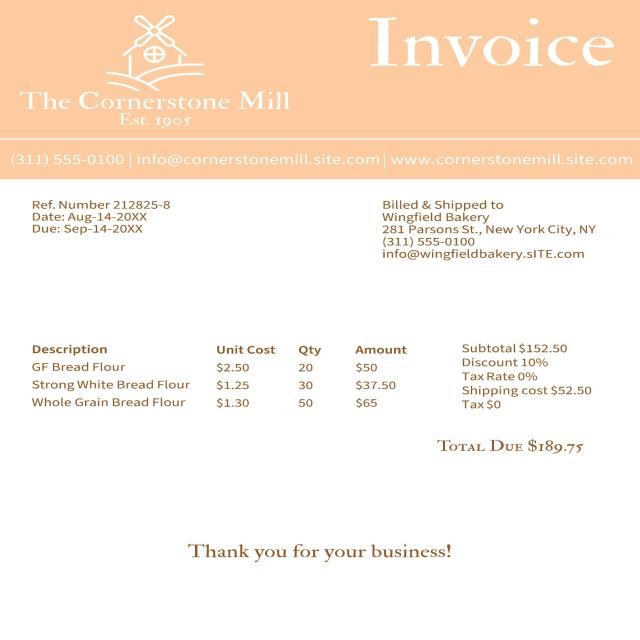paragraph: (5, 143, 639, 174), (349, 9, 622, 77), (373, 193, 609, 268), (10, 82, 297, 134), (180, 528, 468, 572), (454, 331, 610, 411), (21, 187, 178, 240), (431, 429, 606, 464)
table: (13, 329, 423, 422)
